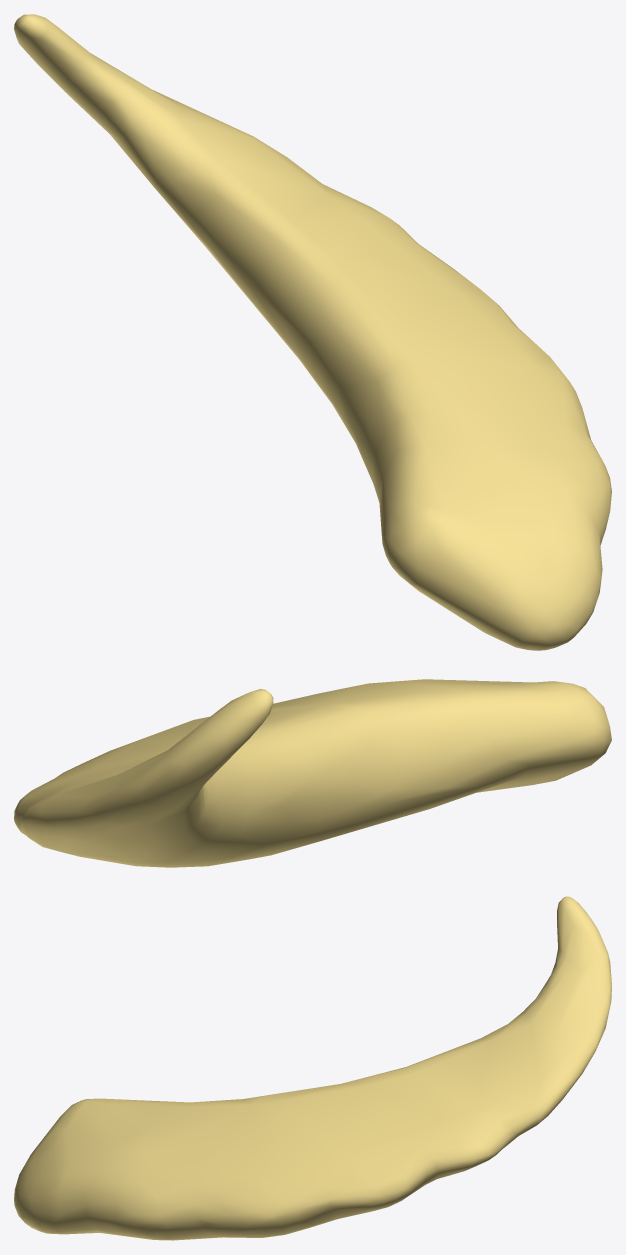
Rendered from fma72714_fj1759.glb.
3 views of the same model, one above another, from view 1: azimuth 30°, elevation 25°; view 2: azimuth 150°, elevation 25°; view 3: azimuth 270°, elevation 25° (orthographic). The views are drawn at different scales.
Parts seen in each view (by area): view 1: FMA72714_FJ1759; view 2: FMA72714_FJ1759; view 3: FMA72714_FJ1759.
Boxes of the visible parts, x1=… form: FMA72714_FJ1759: x1=14, y1=14, x2=611, y2=650; FMA72714_FJ1759: x1=14, y1=679, x2=611, y2=867; FMA72714_FJ1759: x1=14, y1=896, x2=611, y2=1240.
Size of the model in its own units: 0.02 by 0.022 by 0.0429.
